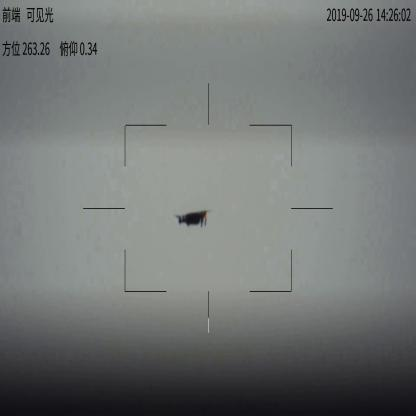uav: (174, 210, 211, 229)
